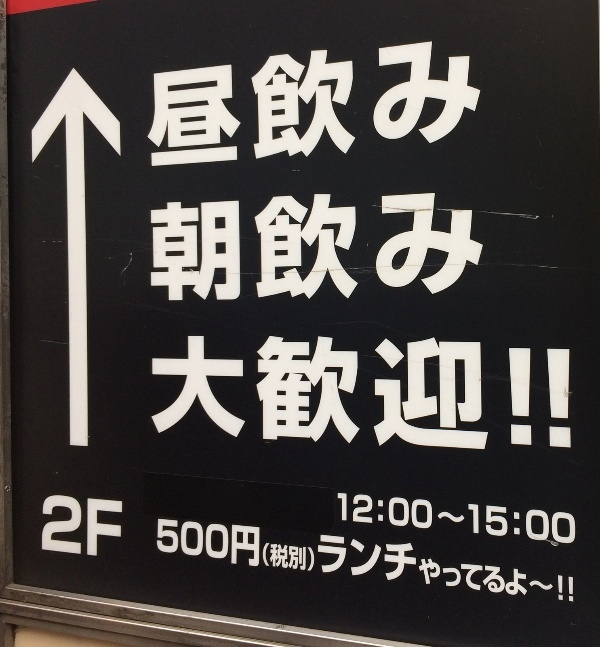text: (161, 34, 176, 170), (177, 34, 192, 170), (193, 34, 208, 170), (209, 34, 224, 170), (225, 34, 240, 170), (241, 34, 256, 170), (257, 34, 272, 170), (273, 34, 288, 170), (289, 34, 304, 170), (305, 34, 320, 170), (321, 34, 336, 170), (337, 34, 352, 170), (353, 34, 368, 170), (369, 34, 384, 170), (385, 34, 400, 170), (401, 34, 416, 170), (417, 34, 432, 170), (433, 34, 448, 170), (449, 34, 464, 170), (465, 34, 480, 170), (161, 186, 176, 311), (177, 186, 192, 311), (193, 186, 208, 311), (209, 186, 224, 311), (225, 186, 240, 311), (241, 186, 256, 311), (257, 186, 272, 311), (273, 186, 288, 311), (289, 186, 304, 311), (305, 186, 320, 311), (321, 186, 336, 311), (337, 186, 352, 311), (353, 186, 368, 311), (369, 186, 384, 311), (385, 186, 400, 311), (401, 186, 416, 311), (417, 186, 432, 311), (433, 186, 448, 311), (449, 186, 464, 311), (465, 186, 480, 311), (161, 335, 176, 454), (177, 335, 192, 454), (193, 335, 208, 454), (209, 335, 224, 454), (225, 335, 240, 454), (241, 335, 256, 454), (257, 335, 272, 454), (273, 335, 288, 454), (289, 335, 304, 454), (305, 335, 320, 454), (321, 335, 336, 454), (337, 335, 352, 454), (353, 335, 368, 454), (369, 335, 384, 454), (385, 335, 400, 454), (401, 335, 416, 454), (417, 335, 432, 454), (433, 335, 448, 454), (449, 335, 464, 454), (465, 335, 480, 454), (481, 335, 496, 454), (497, 335, 512, 454), (513, 335, 528, 454), (529, 335, 544, 454), (545, 335, 560, 454), (147, 34, 160, 170), (561, 335, 574, 454), (161, 518, 176, 604), (177, 518, 192, 604), (193, 518, 208, 604), (209, 518, 224, 604), (225, 518, 240, 604), (241, 518, 256, 604), (257, 518, 272, 604), (273, 518, 288, 604), (289, 518, 304, 604), (305, 518, 320, 604), (321, 518, 336, 604), (337, 518, 352, 604), (353, 518, 368, 604), (369, 518, 384, 604), (385, 518, 400, 604), (401, 518, 416, 604), (417, 518, 432, 604), (433, 518, 448, 604), (449, 518, 464, 604), (465, 518, 480, 604), (481, 518, 496, 604), (497, 518, 512, 604), (513, 518, 528, 604), (529, 518, 544, 604), (545, 518, 560, 604), (151, 186, 160, 311), (561, 518, 574, 604), (49, 496, 64, 561), (65, 496, 80, 561), (81, 496, 96, 561), (97, 496, 112, 561), (152, 335, 160, 454), (353, 493, 368, 545), (369, 493, 384, 545), (385, 493, 400, 545), (401, 493, 416, 545), (417, 493, 432, 545), (433, 493, 448, 545), (449, 493, 464, 545), (465, 493, 480, 545), (481, 493, 496, 545), (497, 493, 512, 545), (513, 493, 528, 545), (529, 493, 544, 545), (545, 493, 560, 545), (561, 493, 576, 545), (338, 493, 352, 545), (113, 496, 123, 561), (481, 186, 485, 311), (481, 34, 483, 170), (44, 496, 48, 561), (158, 518, 160, 604)
